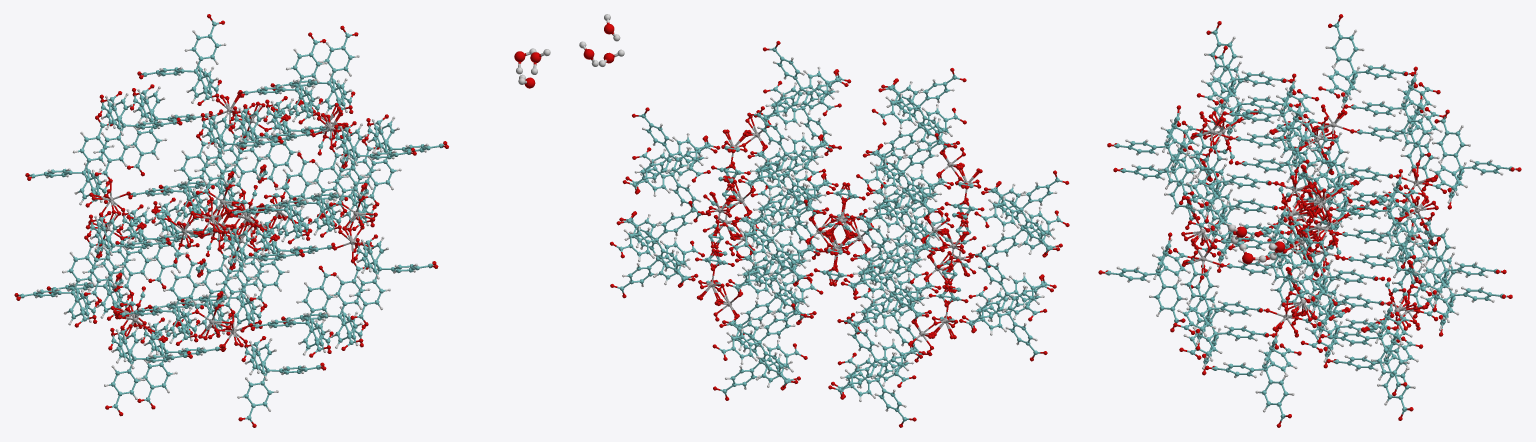
Rendered from mof841_w_mov.glb.
3 renders of one model, left to right at view 1: azimuth 30°, elevation 25°; view 2: azimuth 150°, elevation 25°; view 3: azimuth 270°, elevation 25°, orthographic. The views are drawn at different scales.
Parts seen in each view (by area): view 1: mof841_vmd; view 2: mof841_vmd; view 3: mof841_vmd.
Boxes of the visible parts, x1=… form: mof841_vmd: x1=14, y1=14, x2=448, y2=427; mof841_vmd: x1=610, y1=41, x2=1069, y2=427; mof841_vmd: x1=1098, y1=14, x2=1521, y2=427.
Size of the model in its own units: 5.74 by 3.87 by 4.06.
